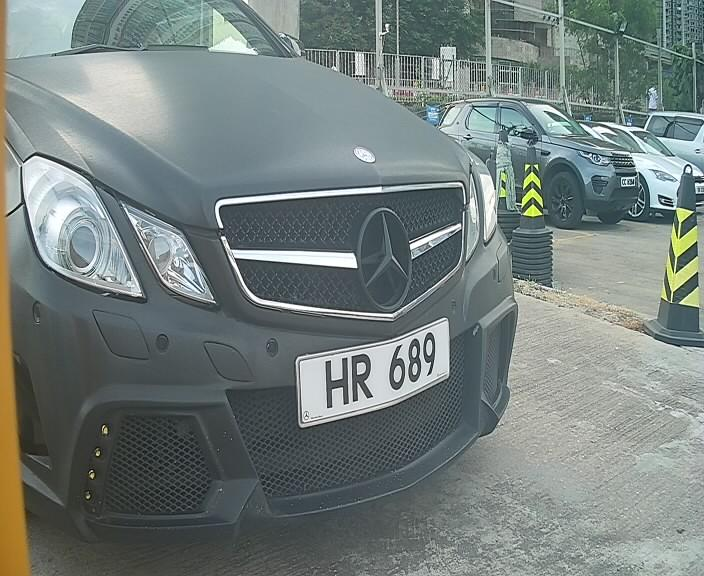Car: (4, 8, 557, 530)
License Plate: (290, 311, 463, 427)
